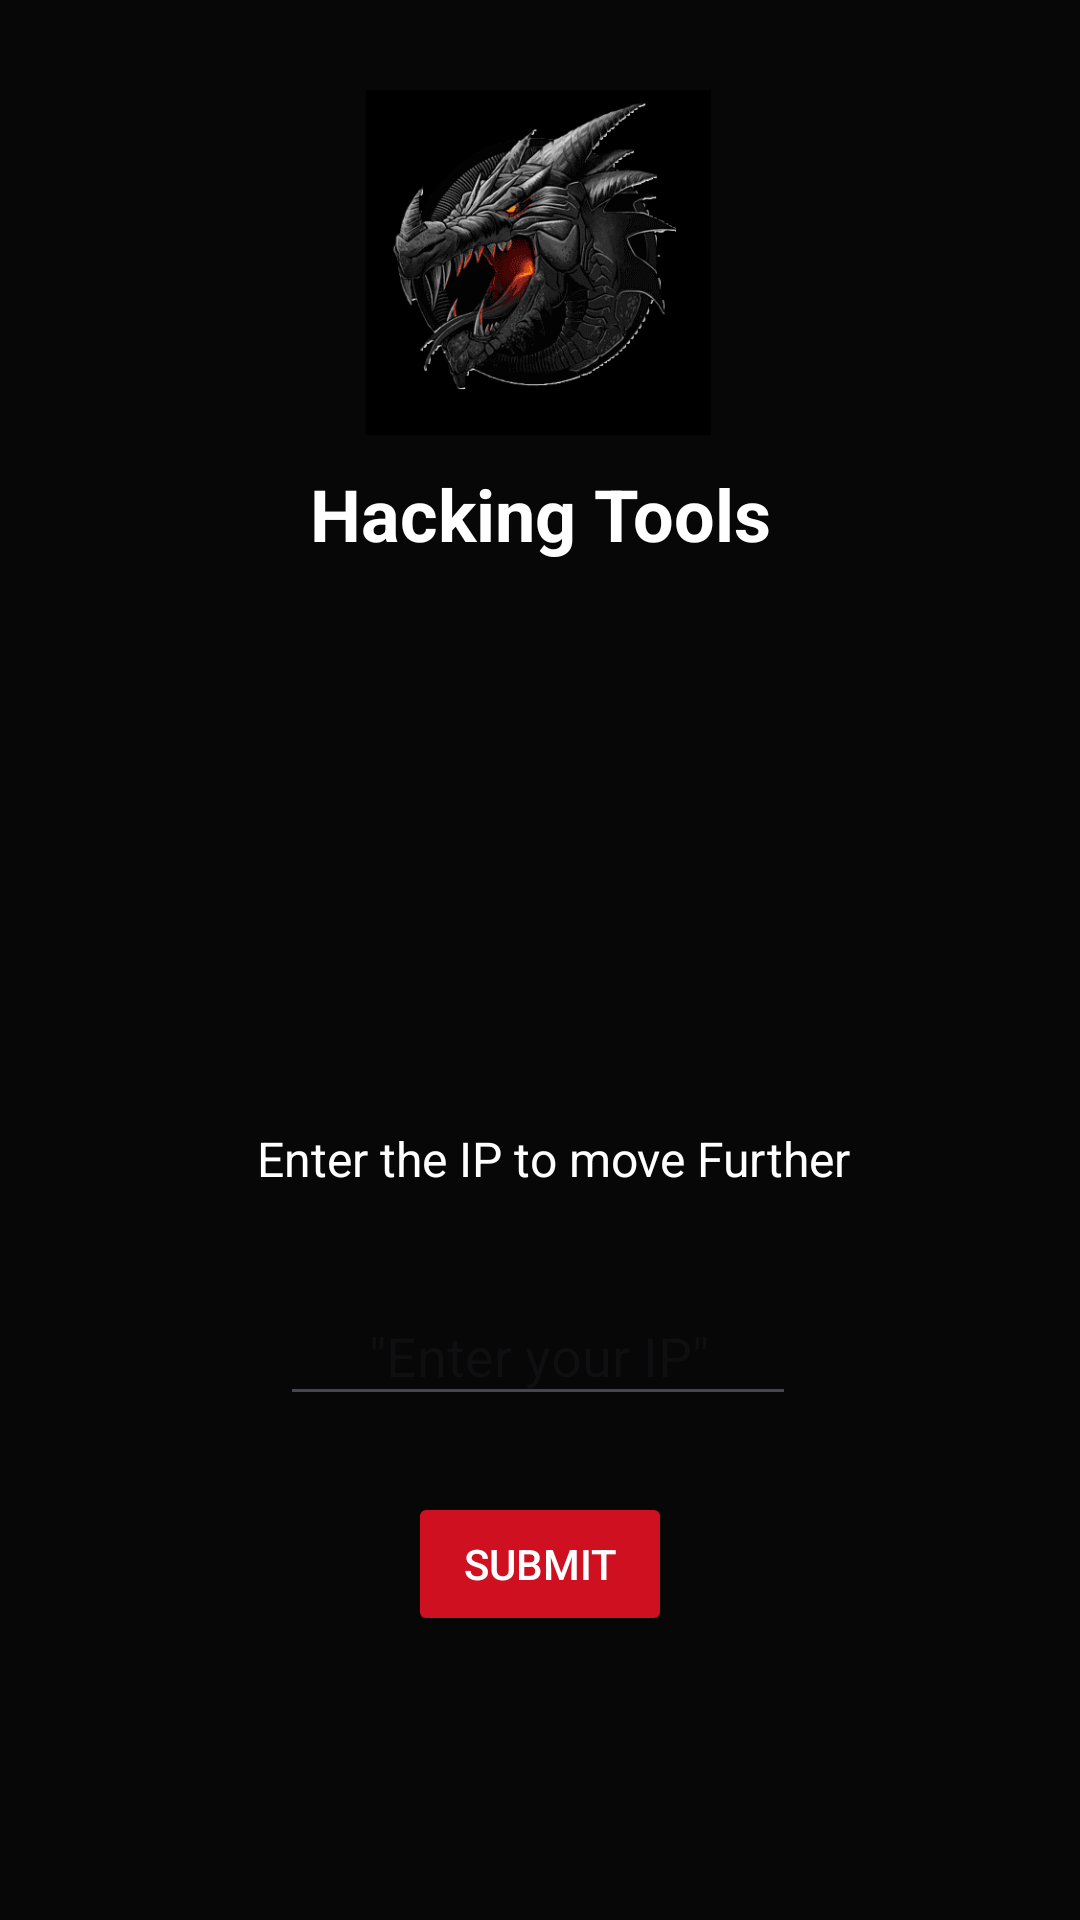

Where icons sit on this 1080px×1920px app screen, as (x1, y1, x2, y2):
dragon: (393, 103, 676, 389)
